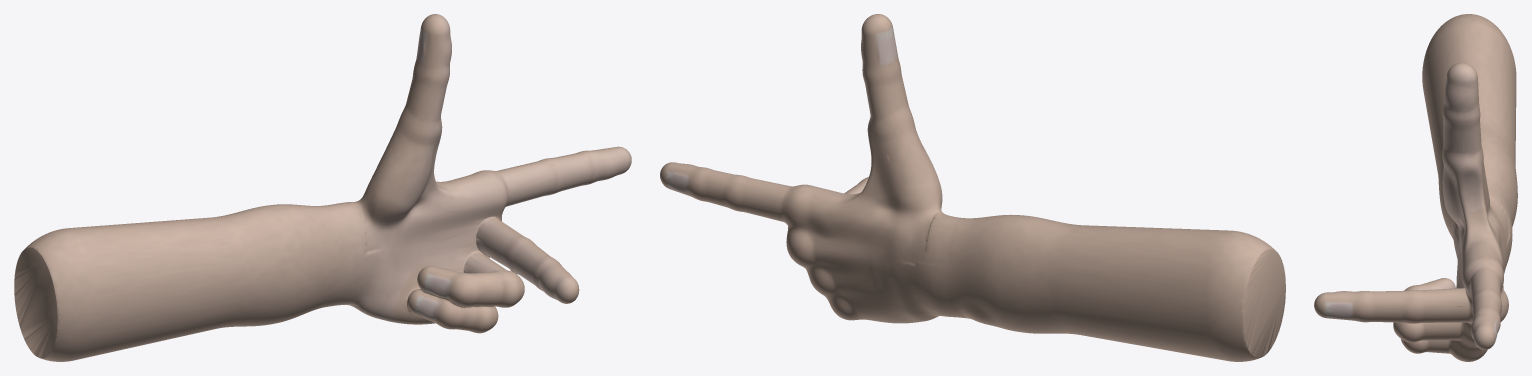
The model's file is fleming-hand.glb.
3 renders of one model, left to right at view 1: azimuth 30°, elevation 25°; view 2: azimuth 150°, elevation 25°; view 3: azimuth 270°, elevation 25°, orthographic. The views are drawn at different scales.
Parts seen in each view (by area): view 1: hand; view 2: hand; view 3: hand.
Boxes of the visible parts, bbox=[...] form: hand: bbox=[14, 14, 631, 361]; hand: bbox=[660, 14, 1285, 361]; hand: bbox=[1314, 14, 1517, 361].
Size of the model in its own units: 8.6 by 4.23 by 2.73.
